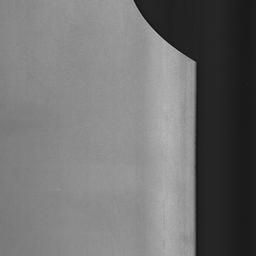Crescent gap: (136, 0, 194, 60)
